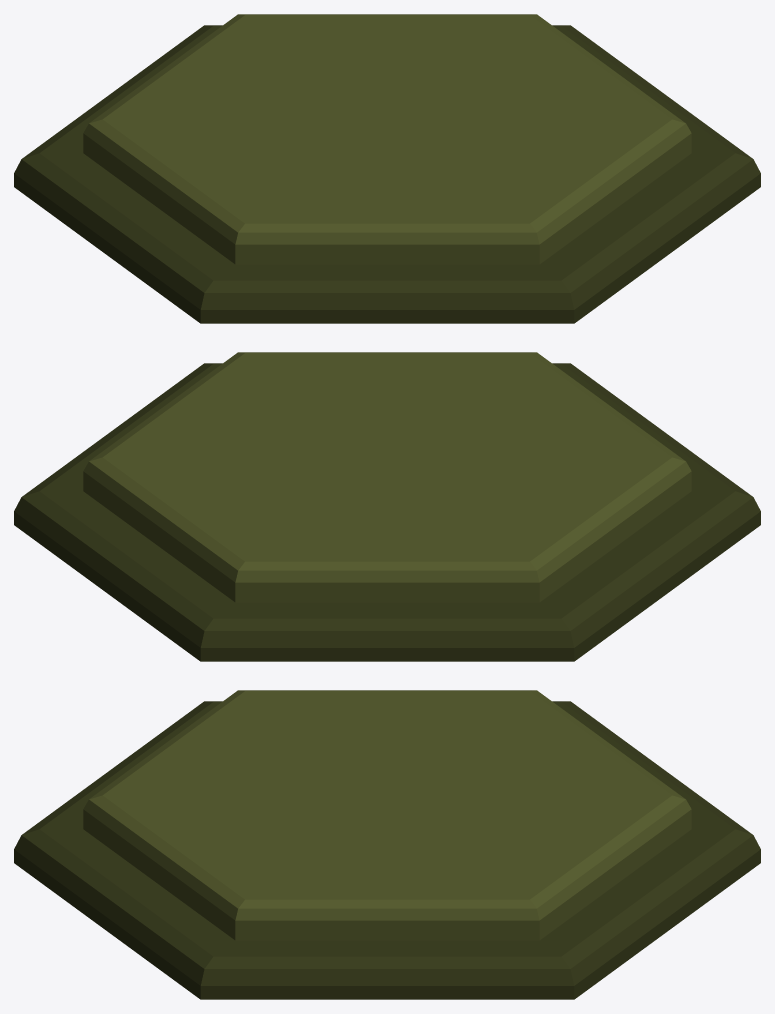
Rendered from hexagon-grass.glb.
3 renders of one model, top to bottom at view 1: azimuth 30°, elevation 25°; view 2: azimuth 150°, elevation 25°; view 3: azimuth 270°, elevation 25°, orthographic.
Parts seen in each view (by area): view 1: Cylinder.001, Cylinder; view 2: Cylinder.001, Cylinder; view 3: Cylinder.001, Cylinder.
Part boxes in pixels (left/top/right/bottom): Cylinder.001: left=83, top=14, right=691, bottom=264; Cylinder: left=14, top=25, right=760, bottom=323; Cylinder.001: left=83, top=352, right=691, bottom=602; Cylinder: left=14, top=363, right=760, bottom=661; Cylinder.001: left=83, top=690, right=691, bottom=940; Cylinder: left=14, top=701, right=760, bottom=999.
Size of the model in its own units: 4 by 0.4619 by 4.62.
